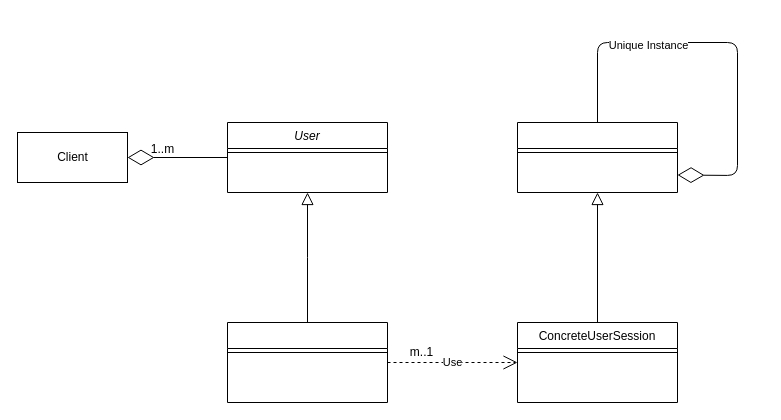
This 781x420 diagram has some shape labels left out. Each missing label, with the box of its shape:
ConcreteUser: (226, 322, 388, 402)
UserSession: (516, 122, 678, 192)
